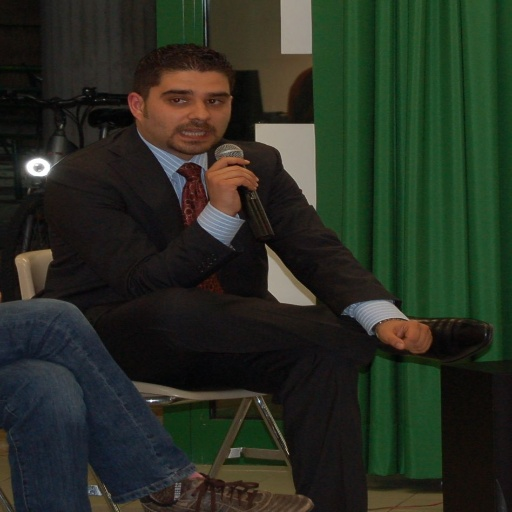hand: (202, 154, 260, 214), (381, 315, 454, 360)
